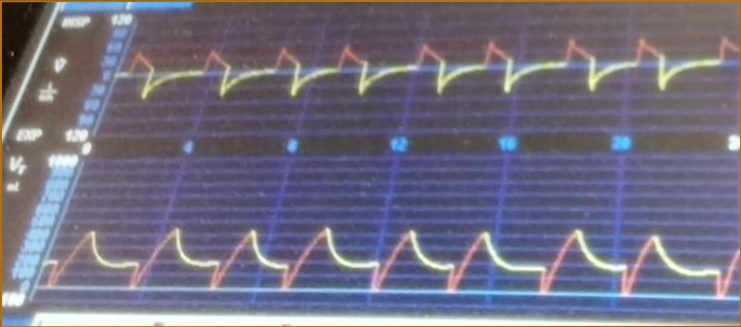Flow: (129, 26, 737, 130)
Leakage Volume: (68, 198, 735, 312)
